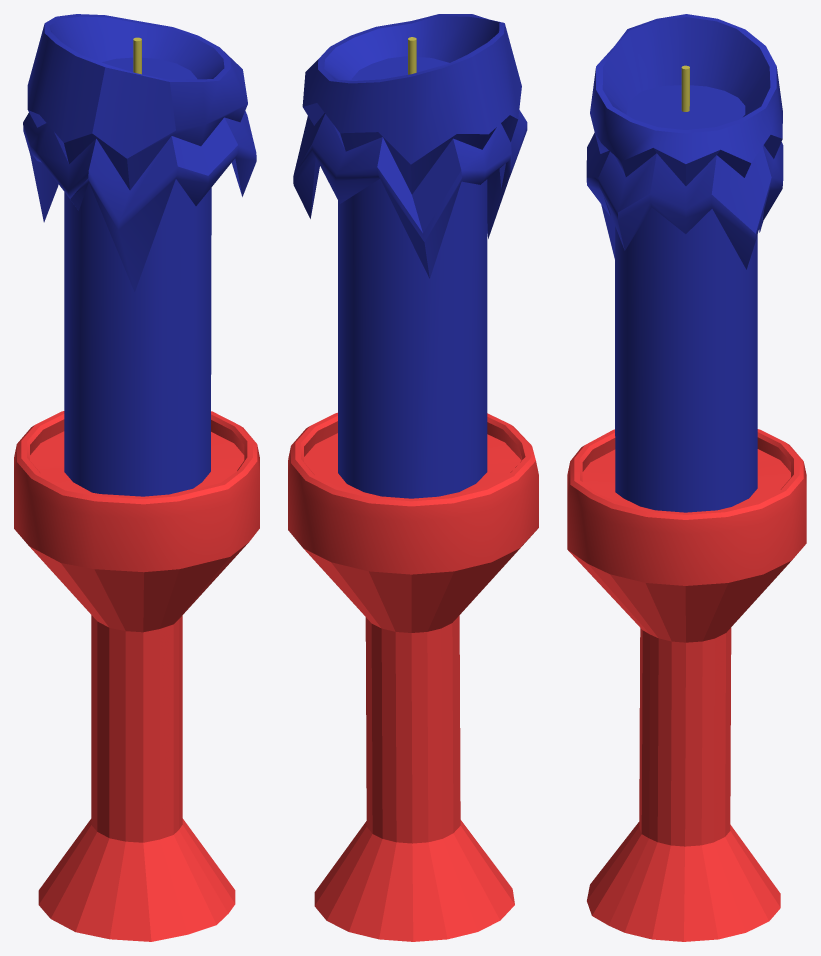
File: candle_2_1 alt.FBX
3 renders of one model, left to right at view 1: azimuth 30°, elevation 25°; view 2: azimuth 150°, elevation 25°; view 3: azimuth 270°, elevation 25°, orthographic. The views are drawn at different scales.
Parts seen in each view (by area): view 1: Cylinder001; view 2: Cylinder001; view 3: Cylinder001.
Part boxes in pixels (box(x1,y1,x2,y2)): Cylinder001: box(14, 14, 259, 941); Cylinder001: box(288, 14, 538, 941); Cylinder001: box(567, 14, 806, 941).
Bounding box in the file's own units: 33.83 × 131 × 33.31.
